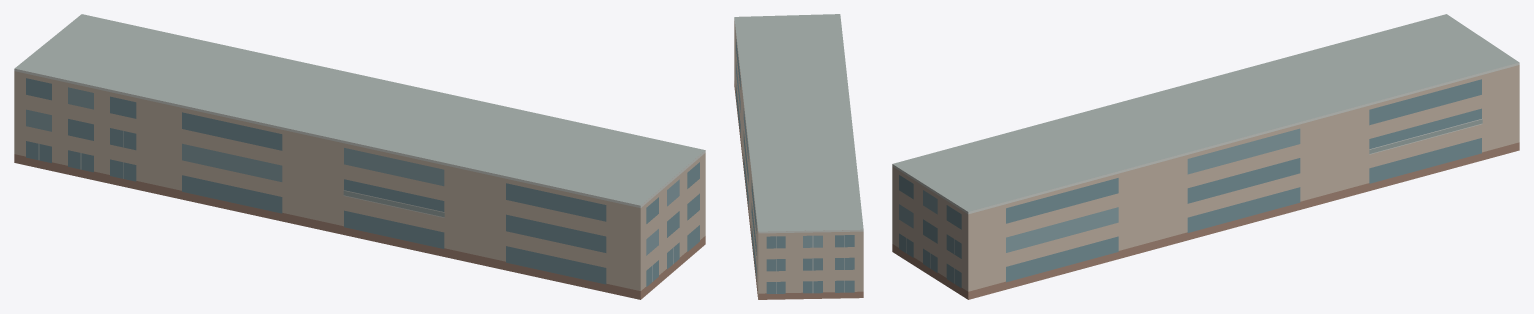
The model's file is survey-upis-33038258.glb.
3 renders of one model, left to right at view 1: azimuth 30°, elevation 25°; view 2: azimuth 150°, elevation 25°; view 3: azimuth 270°, elevation 25°, orthographic. The views are drawn at different scales.
Visible parts, largest first — view 1: survey-upis-33038258.tmp; view 2: survey-upis-33038258.tmp; view 3: survey-upis-33038258.tmp.
Part boxes in pixels (x1,y1,x2,y2): survey-upis-33038258.tmp: (14,14,705,299); survey-upis-33038258.tmp: (734,14,863,299); survey-upis-33038258.tmp: (892,14,1519,299).
Bounding box in the file's own units: 44.19 × 9.15 × 59.16.
